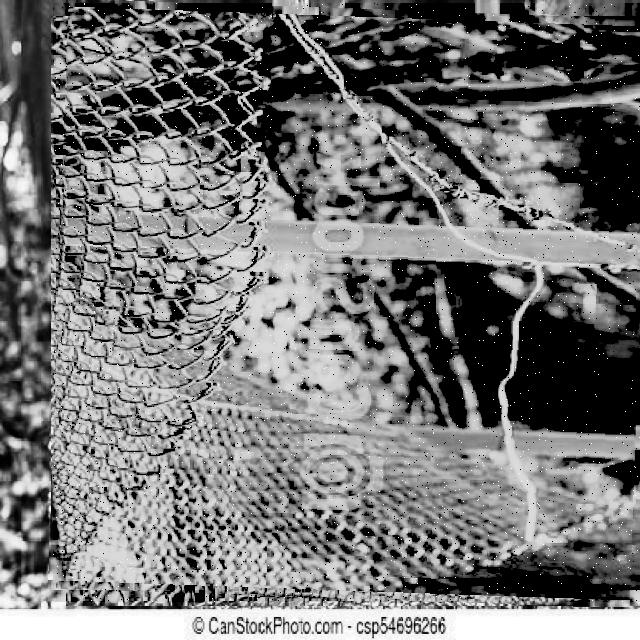anomaly-fence: (53, 3, 640, 602)
